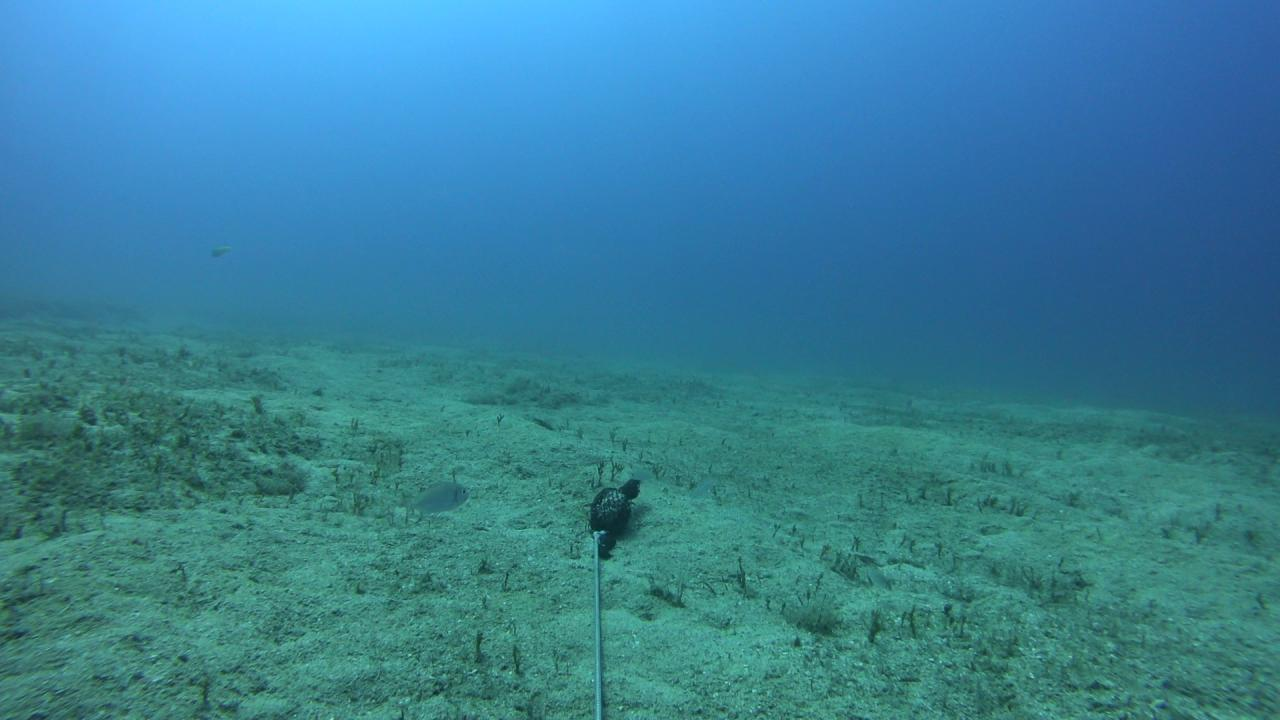pagellus: (401, 480, 468, 525), (864, 562, 891, 594)
